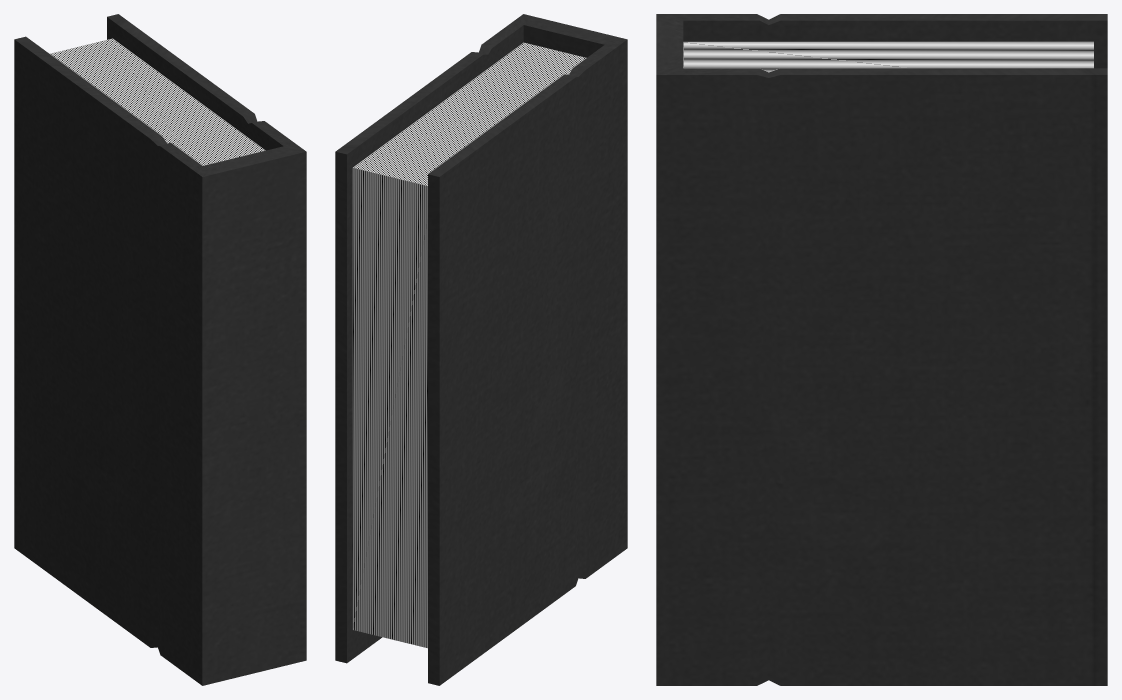
File: one.book.fbx
3 views of the same model, side by side, from view 1: azimuth 30°, elevation 25°; view 2: azimuth 150°, elevation 25°; view 3: azimuth 270°, elevation 25° (orthographic). The views are drawn at different scales.
Visible parts, largest first — view 1: Book; view 2: Book; view 3: Book.
Boxes of the visible parts, x1,y1,x2,y2 form: Book: (14, 14, 306, 685); Book: (335, 14, 627, 685); Book: (656, 14, 1107, 685).
Size of the model in its own units: 13.58 by 63.44 by 42.5.
